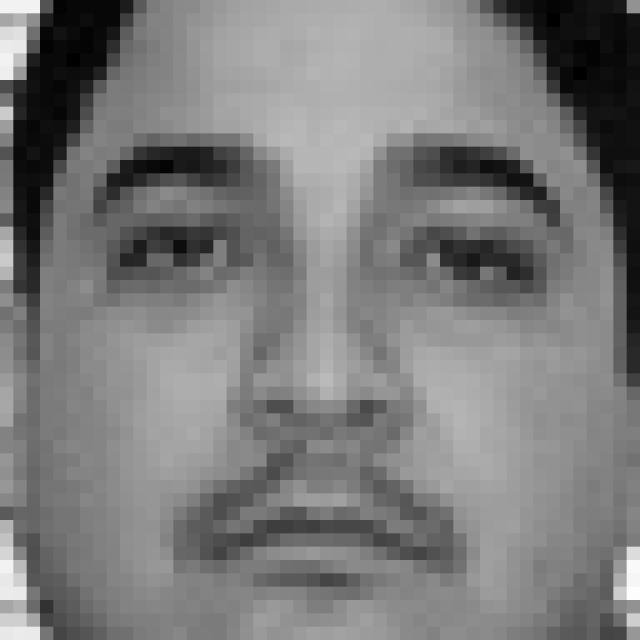neutral: (88, 126, 575, 592)
